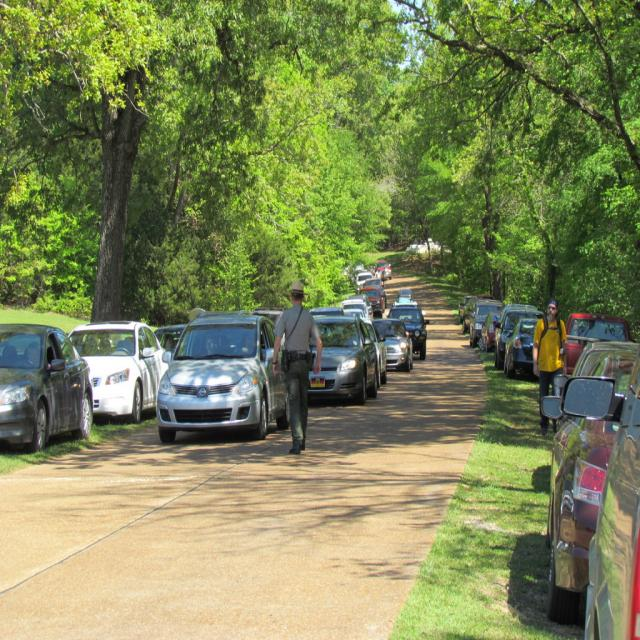other: (462, 295, 639, 639), (312, 258, 429, 404), (146, 320, 272, 450), (0, 323, 94, 450), (57, 319, 169, 420), (154, 324, 185, 354)
